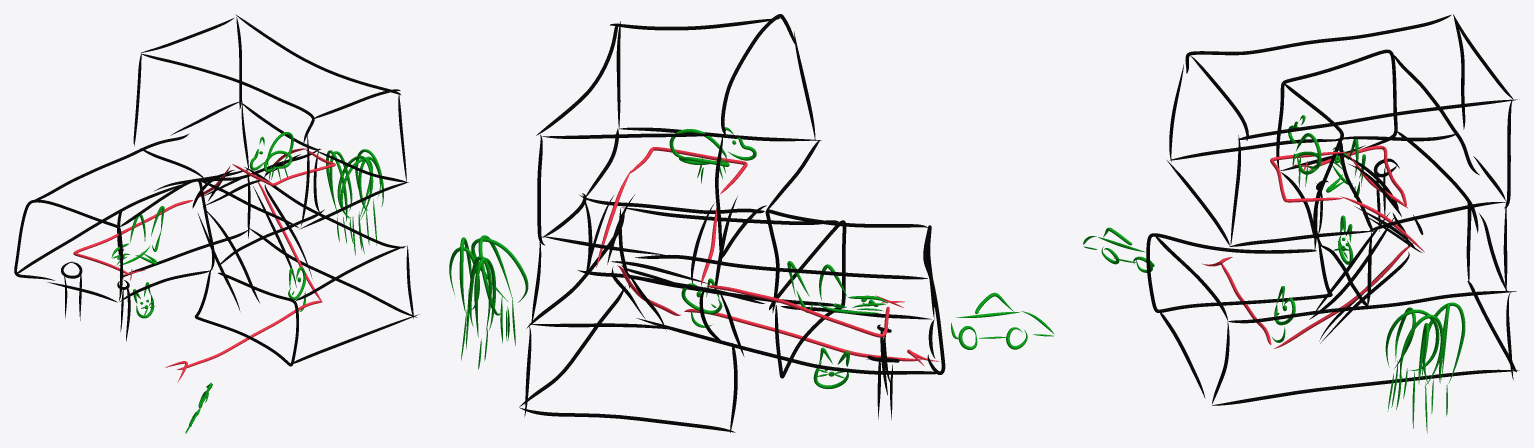
The picture shows the model from 3 angles, left to right: view 1: azimuth 30°, elevation 25°; view 2: azimuth 150°, elevation 25°; view 3: azimuth 270°, elevation 25°; orthographic projection. The views are drawn at different scales.
Visible parts, largest first — view 1: s.0008, s.0011, s.0045, s.0012, s.0013, s.0039, s.0079, s.0024, s.0014, s.0023, s.0061, s.0077 (+3 smaller); view 2: s.0008, s.0013, s.0014, s.0012, s.0079, s.0011, s.0026, s.0061, s.0021, s.0045, s.0030, s.0031 (+5 smaller); view 3: s.0008, s.0011, s.0024, s.0045, s.0023, s.0039, s.0012, s.0036, s.0075, s.0077, s.0014, s.0034 (+8 smaller).
Boxes of the visible parts, x1,y1,x2,y2 form: s.0008: (194, 268, 298, 366); s.0011: (14, 199, 122, 300); s.0045: (141, 54, 314, 142); s.0012: (120, 178, 214, 269); s.0013: (17, 184, 181, 273); s.0039: (235, 14, 400, 94); s.0079: (73, 200, 192, 274); s.0024: (249, 228, 416, 317); s.0014: (35, 133, 189, 199); s.0023: (244, 167, 404, 248); s.0061: (177, 300, 322, 369); s.0077: (232, 149, 335, 186); s.0008: (769, 220, 846, 378); s.0013: (636, 318, 941, 374); s.0014: (635, 254, 927, 279); s.0012: (765, 209, 927, 313); s.0079: (706, 285, 889, 337); s.0011: (923, 225, 945, 374); s.0026: (519, 407, 735, 432); s.0061: (684, 309, 921, 361); s.0021: (622, 207, 838, 224); s.0045: (721, 14, 795, 134); s.0030: (577, 270, 764, 303); s.0031: (579, 195, 764, 213); s.0008: (1146, 233, 1332, 312); s.0011: (1276, 49, 1397, 168); s.0024: (1212, 369, 1519, 405); s.0045: (1185, 14, 1451, 73); s.0023: (1228, 291, 1516, 323); s.0039: (1238, 99, 1519, 139); s.0012: (1284, 84, 1343, 245); s.0036: (1169, 139, 1343, 160); s.0075: (1273, 243, 1413, 348); s.0077: (1270, 151, 1346, 202); s.0014: (1392, 54, 1479, 175); s.0034: (1229, 231, 1372, 246).
Size of the model in its own units: 199 by 164 by 126.
